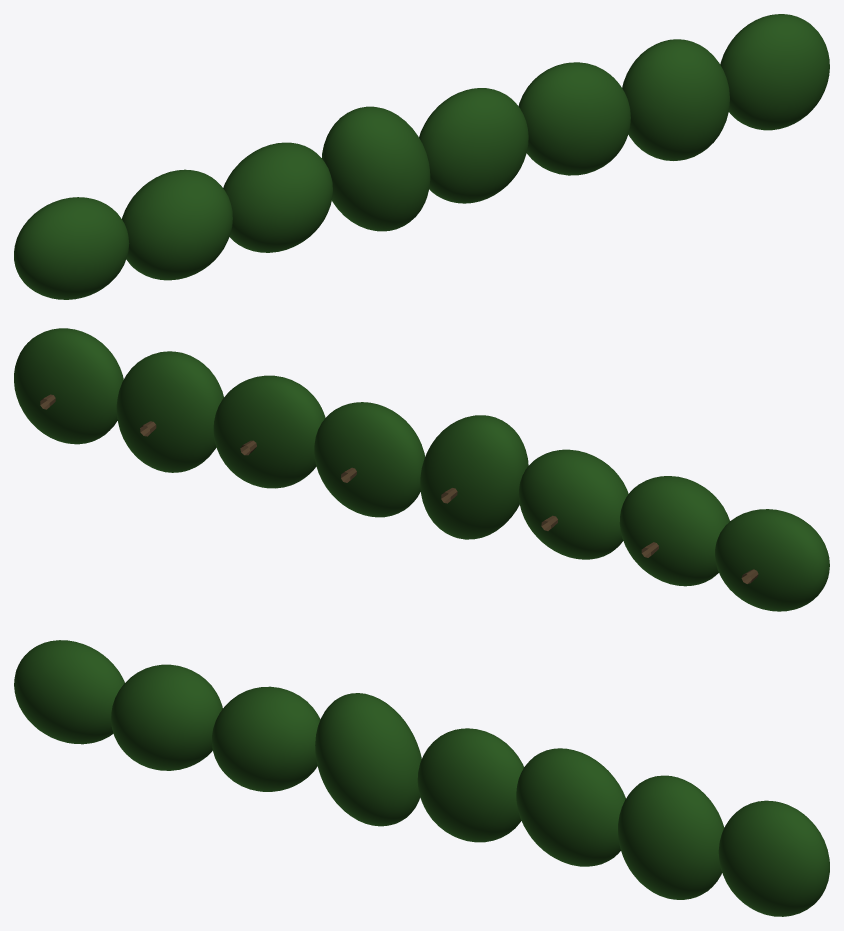
File: citrus_plain8_a.obj
The picture shows the model from 3 angles, top to bottom: view 1: azimuth 30°, elevation 25°; view 2: azimuth 150°, elevation 25°; view 3: azimuth 330°, elevation 25°; orthographic projection.
Visible parts, largest first — view 1: canopy; view 2: canopy, trunk; view 3: canopy.
Part boxes in pixels (x1,y1,x2,y2): canopy: [14, 14, 829, 299]; canopy: [14, 328, 829, 611]; trunk: [40, 394, 758, 583]; canopy: [14, 640, 829, 916].
Bounding box in the file's own units: 24.18 × 3.6 × 2.84.
